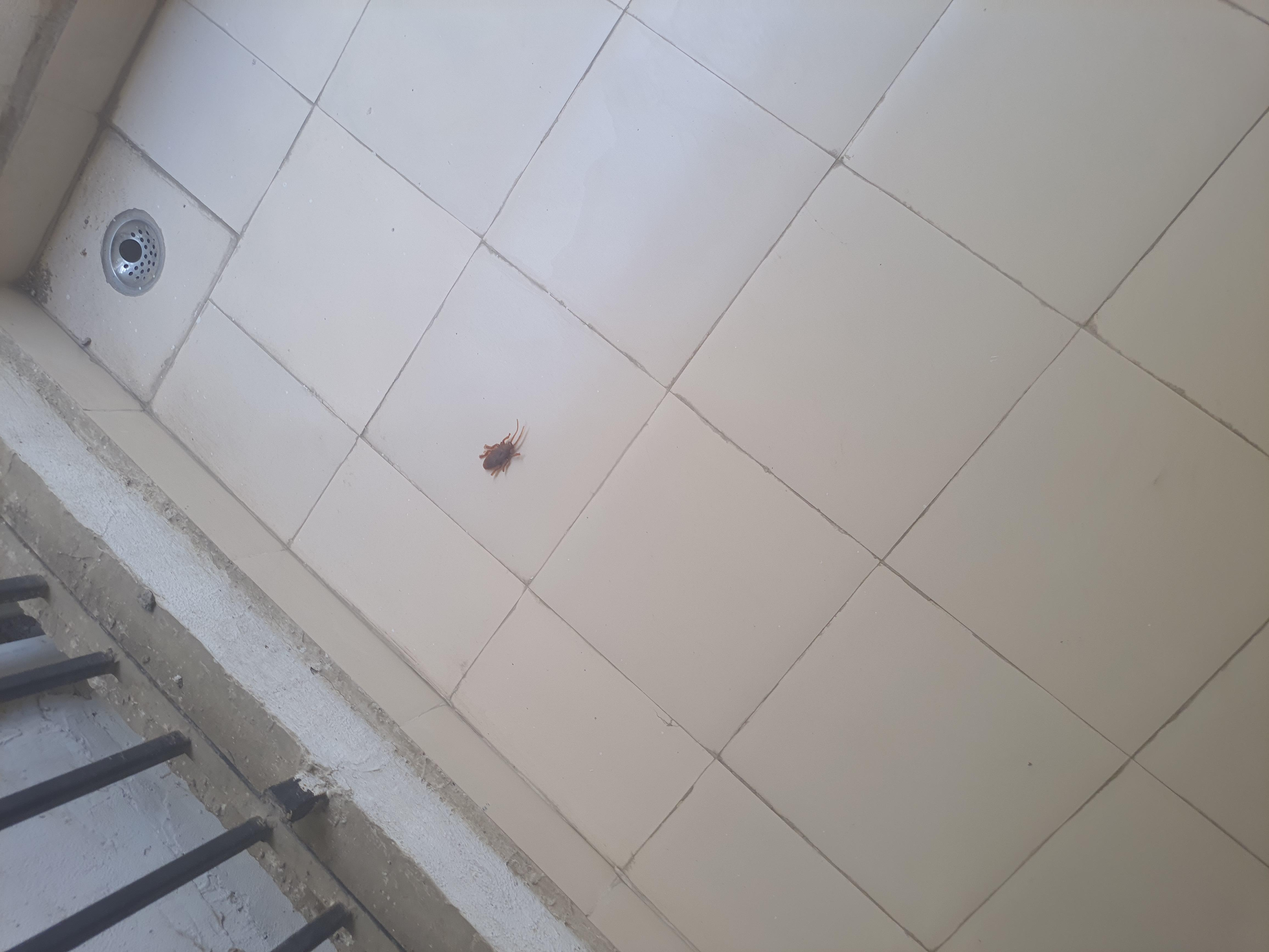cockroach: (616, 353, 710, 404)
